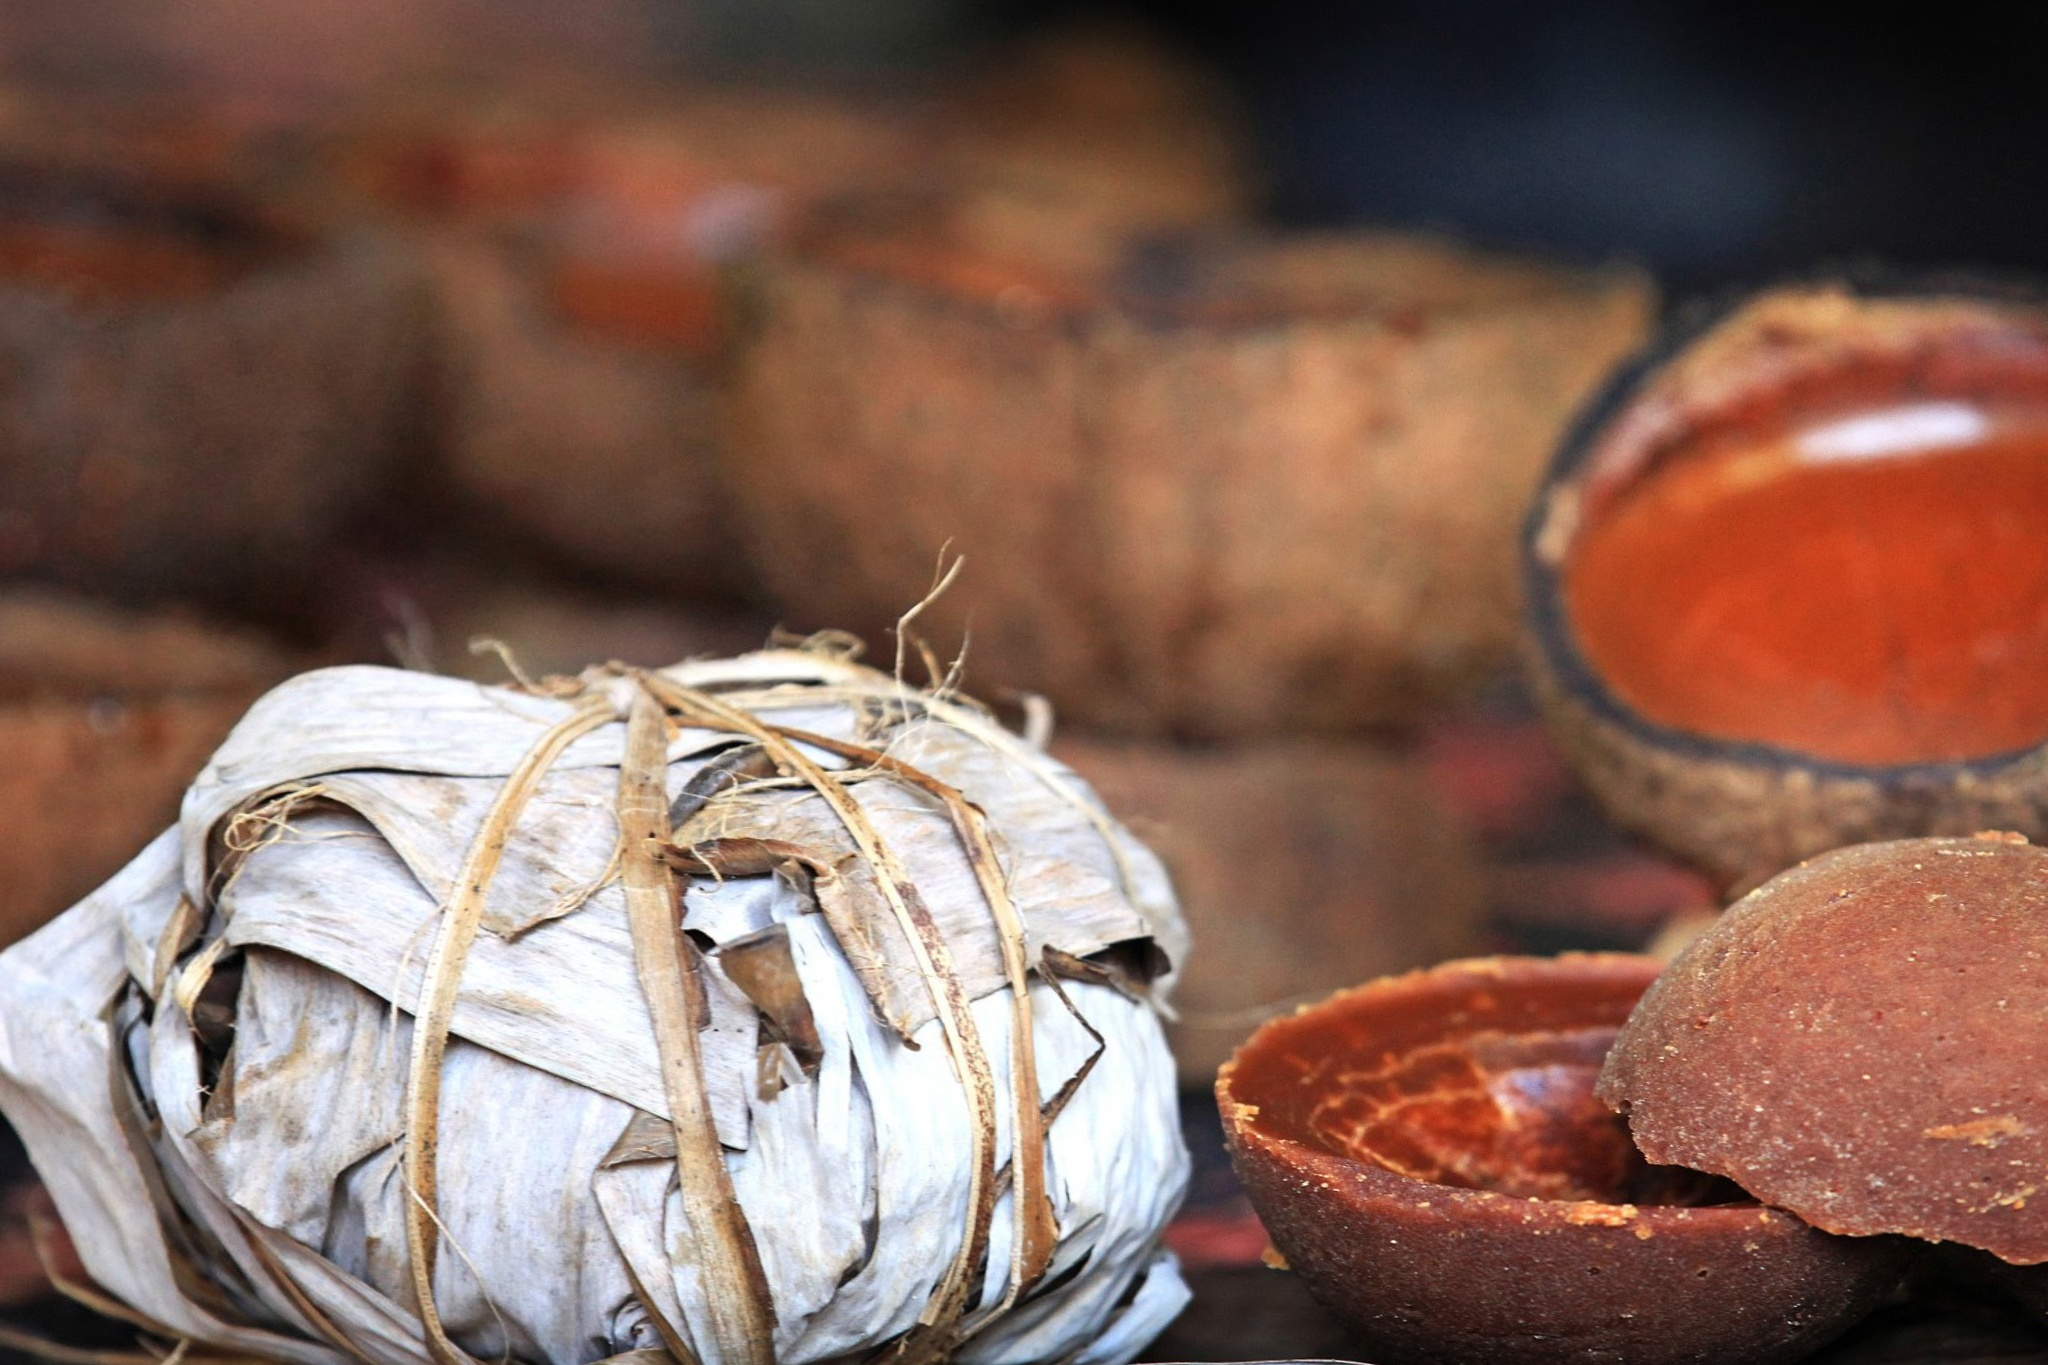hakuru: (1202, 928, 1951, 1365), (1598, 815, 2048, 1271)
